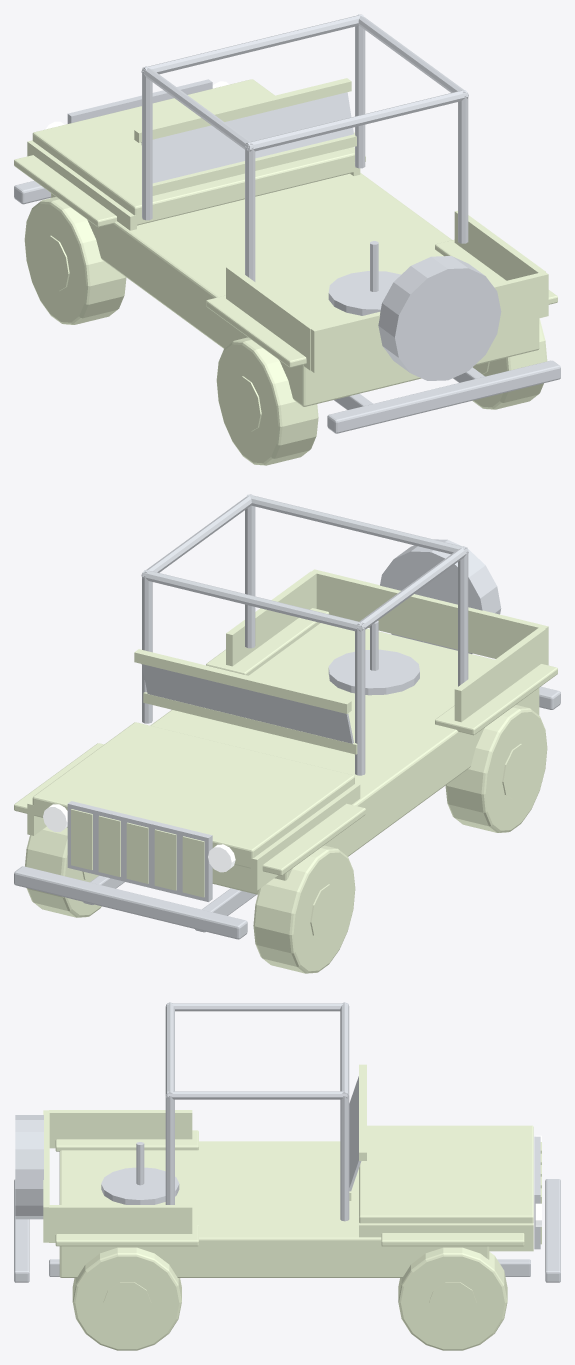
The model's file is jeep.glb.
3 renders of one model, top to bottom at view 1: azimuth 30°, elevation 25°; view 2: azimuth 150°, elevation 25°; view 3: azimuth 270°, elevation 25°, orthographic. The views are drawn at different scales.
Parts seen in each view (by area): view 1: Tub, Hood, SpareWheel, WheelRL_Tire, WheelFL_Tire, Glass, CargoB, BumperR, CargoL, WipeFrameT, WipeFrameB, CageTop9 (+18 smaller); view 2: Tub, Hood, WheelFL_Tire, CargoB, WheelRL_Tire, Glass, BumperF, SpareWheel, Grille, CargoL, WipeFrameT, WheelFR_Tire (+25 smaller); view 3: Tub, Hood, WheelFR_Tire, WheelRR_Tire, CargoR, CargoL, SpareWheel, HoodSideR, MgRing, FenderFR, FenderRR, BumperF (+15 smaller).
Boxes of the visible parts, x1,y1,x2,y2 form: Tub: (51, 173, 539, 406); Hood: (32, 79, 354, 225); SpareWheel: (378, 256, 501, 380); WheelRL_Tire: (216, 337, 318, 465); WheelFL_Tire: (24, 197, 126, 324); Glass: (141, 92, 353, 183); CargoB: (311, 271, 548, 372); BumperR: (327, 360, 560, 433); CargoL: (226, 265, 316, 370); WipeFrameT: (134, 78, 351, 142); WipeFrameB: (152, 132, 356, 195); CageTop9: (246, 90, 468, 151); Tub: (67, 623, 539, 894); Hood: (32, 722, 354, 868); WheelFL_Tire: (253, 845, 355, 973); CargoB: (311, 569, 548, 665); WheelRL_Tire: (445, 705, 547, 832); Glass: (141, 664, 353, 743); BumperF: (14, 866, 247, 939); SpareWheel: (380, 539, 501, 653); Grille: (67, 801, 212, 901); CargoL: (454, 627, 545, 722); WipeFrameT: (134, 649, 351, 713); WheelFR_Tire: (25, 826, 101, 917); Tub: (59, 1141, 489, 1277); Hood: (359, 1125, 533, 1223); WheelFR_Tire: (398, 1247, 507, 1350); WheelRR_Tire: (72, 1247, 181, 1350); CargoR: (49, 1205, 192, 1242); CargoL: (49, 1110, 192, 1148); SpareWheel: (15, 1115, 43, 1219); HoodSideR: (359, 1223, 533, 1251); MgRing: (101, 1167, 179, 1204); FenderFR: (381, 1233, 524, 1246); FenderRR: (55, 1225, 198, 1246); BumperF: (545, 1179, 560, 1282).
Size of the model in its own units: 2.04 by 2.11 by 4.2.
